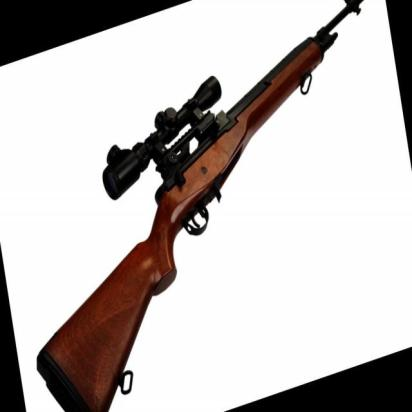Gun: (34, 0, 364, 412)
